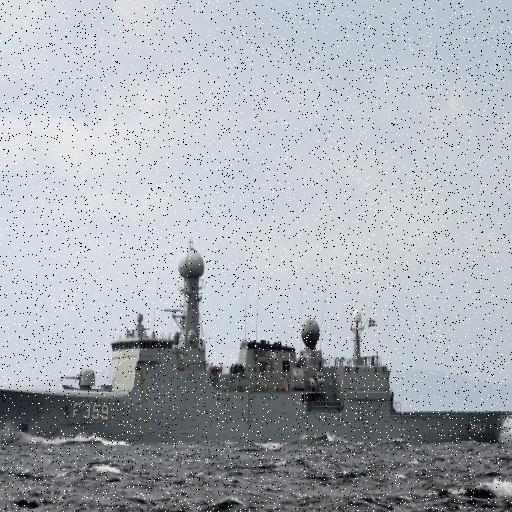Fragata: (1, 226, 512, 452)
